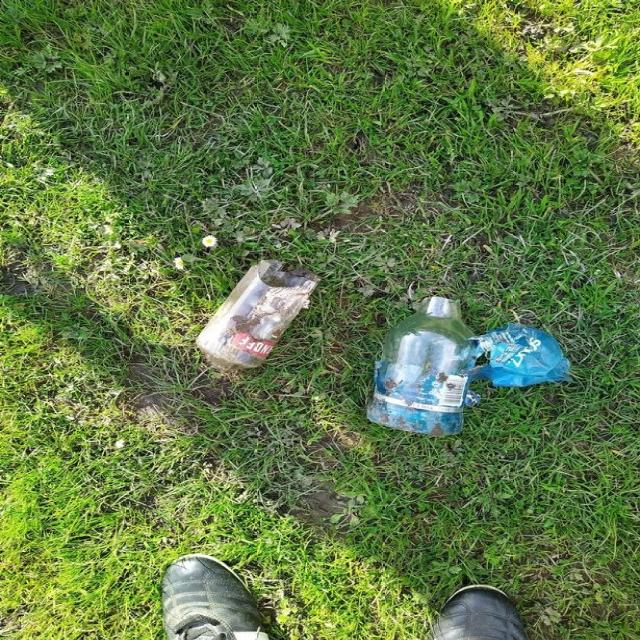plastic_bottle: (194, 258, 320, 373)
